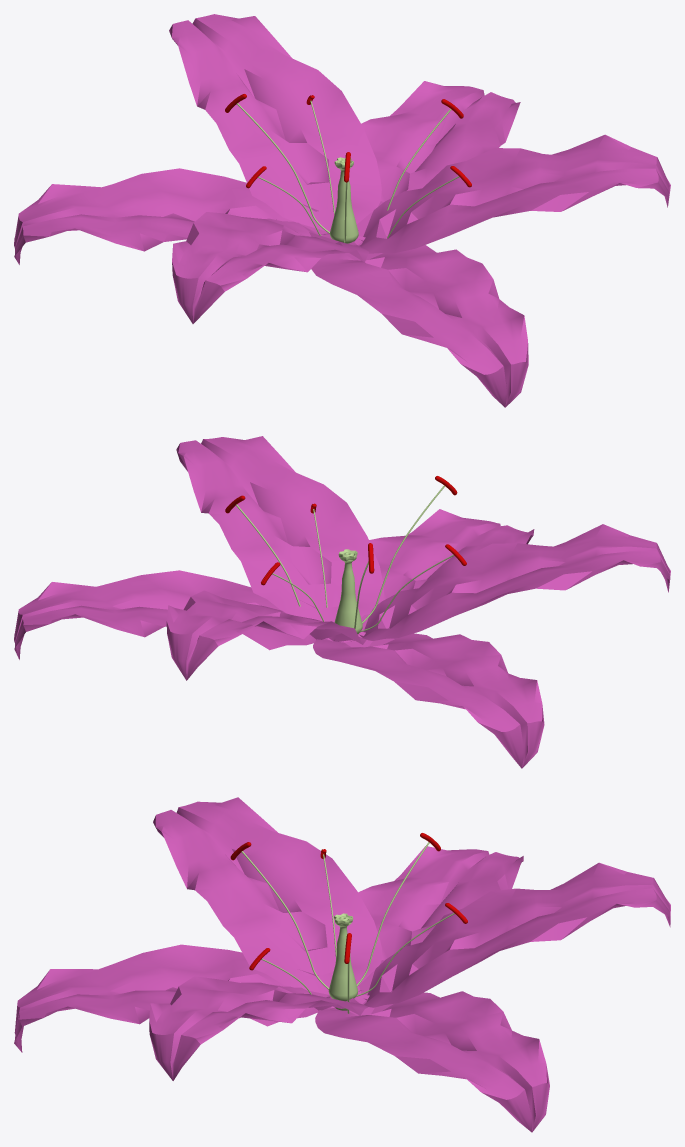
3 renders of one model, top to bottom at view 1: azimuth 30°, elevation 25°; view 2: azimuth 150°, elevation 25°; view 3: azimuth 270°, elevation 25°, orthographic.
Parts seen in each view (by area): view 1: Side, Pestik; view 2: Side, Pestik, tichynka; view 3: Side, Pestik, tichymka, tichynka.
Part boxes in pixels (x1,y1,x2,y2): Side: (14, 14, 670, 407); Pestik: (330, 157, 358, 243); Side: (14, 436, 670, 768); Pestik: (334, 549, 362, 633); tichynka: (362, 476, 457, 623); Side: (14, 797, 670, 1132); Pestik: (328, 913, 357, 1010); tichymka: (356, 833, 440, 986); tichynka: (230, 842, 329, 989).
Size of the model in its own units: 1626 by 566 by 1790.
